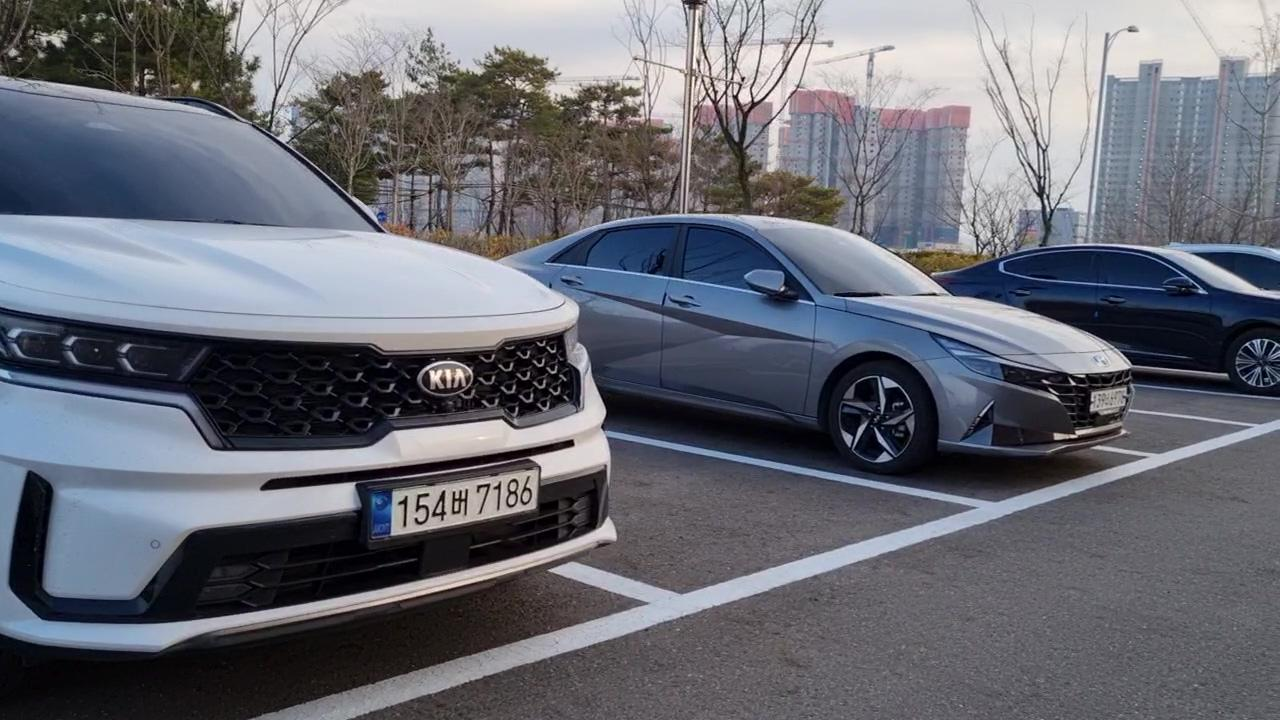empty: (599, 351, 980, 607)
occupied: (0, 88, 623, 719), (649, 226, 1143, 510)
